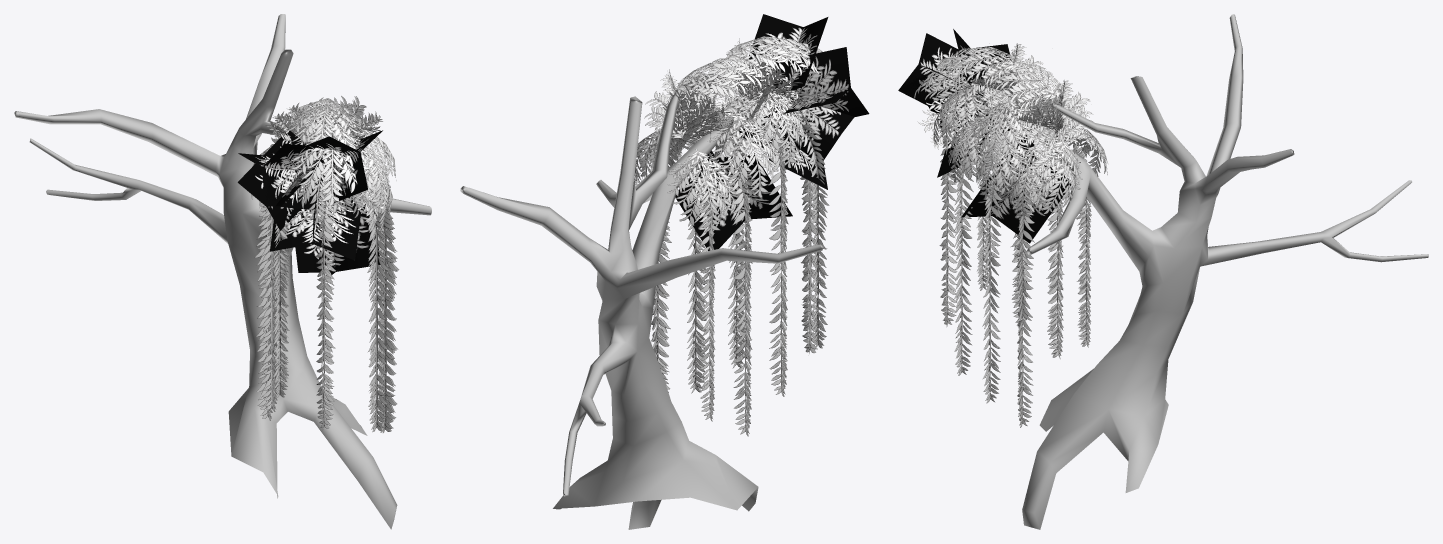
The model's file is willowTree.fbx.
3 renders of one model, left to right at view 1: azimuth 30°, elevation 25°; view 2: azimuth 150°, elevation 25°; view 3: azimuth 270°, elevation 25°, orthographic. The views are drawn at different scales.
Parts seen in each view (by area): view 1: willowTree, vine2, BranchClusterings23, vine_wStick1, BranchClusterings20, pasted__BranchOrbs20, vine1, vine4, vine52, BranchClusterings24, BranchClusterings22, BranchClusterings25 (+11 smaller); view 2: willowTree, BranchClusterings20, BranchClusterings24, pasted__BranchOrbs10, vine5, vine4, pasted__BranchOrbs8, vine52, pasted__BranchOrbs9, pasted__BranchOrbs7, BranchClusterings25, BranchClusterings22 (+15 smaller); view 3: willowTree, BranchClusterings25, vine1, vine2, BranchClusterings24, vine, pasted__BranchOrbs11, pasted__BranchOrbs13, pasted__BranchOrbs7, vine_wStick1, pasted__BranchOrbs2, vine5 (+16 smaller).
Part boxes in pixels (x1,y1,x2,y2): willowTree: [14, 14, 431, 529]; vine2: [359, 191, 389, 431]; BranchClusterings23: [270, 180, 361, 260]; vine_wStick1: [316, 181, 335, 430]; BranchClusterings20: [238, 143, 318, 209]; pasted__BranchOrbs20: [290, 121, 371, 205]; vine1: [375, 199, 397, 432]; vine4: [259, 206, 278, 411]; vine52: [272, 208, 293, 397]; BranchClusterings24: [295, 204, 380, 274]; BranchClusterings22: [237, 129, 327, 230]; BranchClusterings25: [306, 130, 382, 202]; willowTree: [460, 89, 823, 529]; BranchClusterings20: [764, 47, 869, 117]; BranchClusterings24: [675, 131, 792, 250]; pasted__BranchOrbs10: [667, 149, 737, 234]; vine5: [724, 134, 752, 436]; vine4: [758, 99, 788, 396]; pasted__BranchOrbs8: [707, 114, 780, 197]; vine52: [789, 111, 829, 348]; pasted__BranchOrbs9: [736, 87, 805, 168]; pasted__BranchOrbs7: [674, 58, 775, 107]; BranchClusterings25: [748, 14, 828, 91]; BranchClusterings22: [761, 71, 854, 163]; willowTree: [973, 14, 1428, 529]; BranchClusterings25: [898, 33, 990, 120]; vine1: [981, 142, 1016, 403]; vine2: [953, 112, 985, 375]; BranchClusterings24: [961, 135, 1070, 243]; vine: [1016, 165, 1041, 427]; pasted__BranchOrbs11: [1027, 139, 1082, 213]; pasted__BranchOrbs13: [973, 97, 1031, 170]; pasted__BranchOrbs7: [984, 62, 1065, 112]; vine_wStick1: [939, 88, 1052, 326]; pasted__BranchOrbs2: [1003, 144, 1060, 219]; vine5: [1046, 130, 1064, 358].
Bounding box in the file's own units: 498 × 714 × 765.
